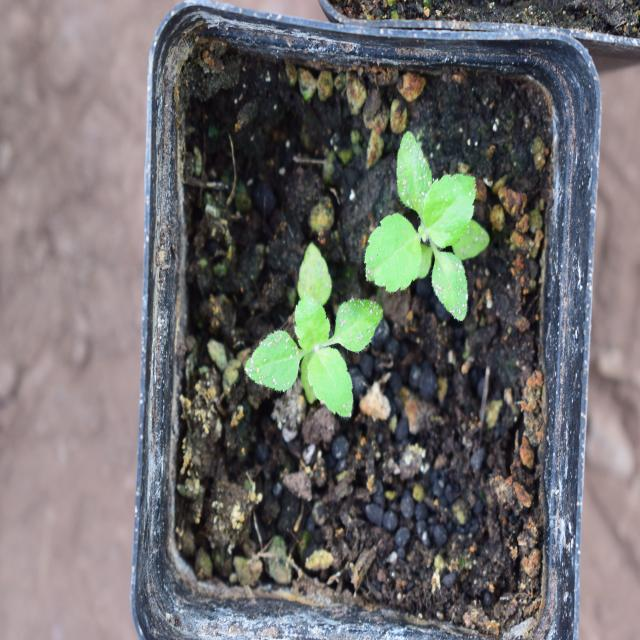billygoat_weed: (362, 130, 484, 342), (254, 257, 385, 437)
